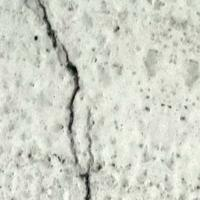crack: (32, 0, 109, 199)
